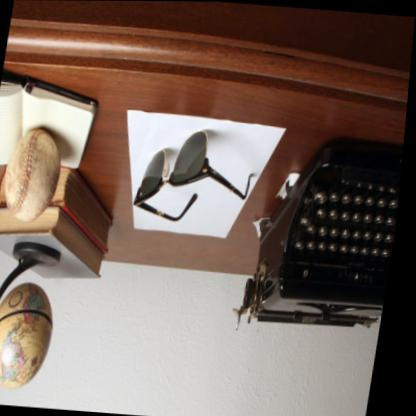Spectacles: (133, 123, 264, 229)
